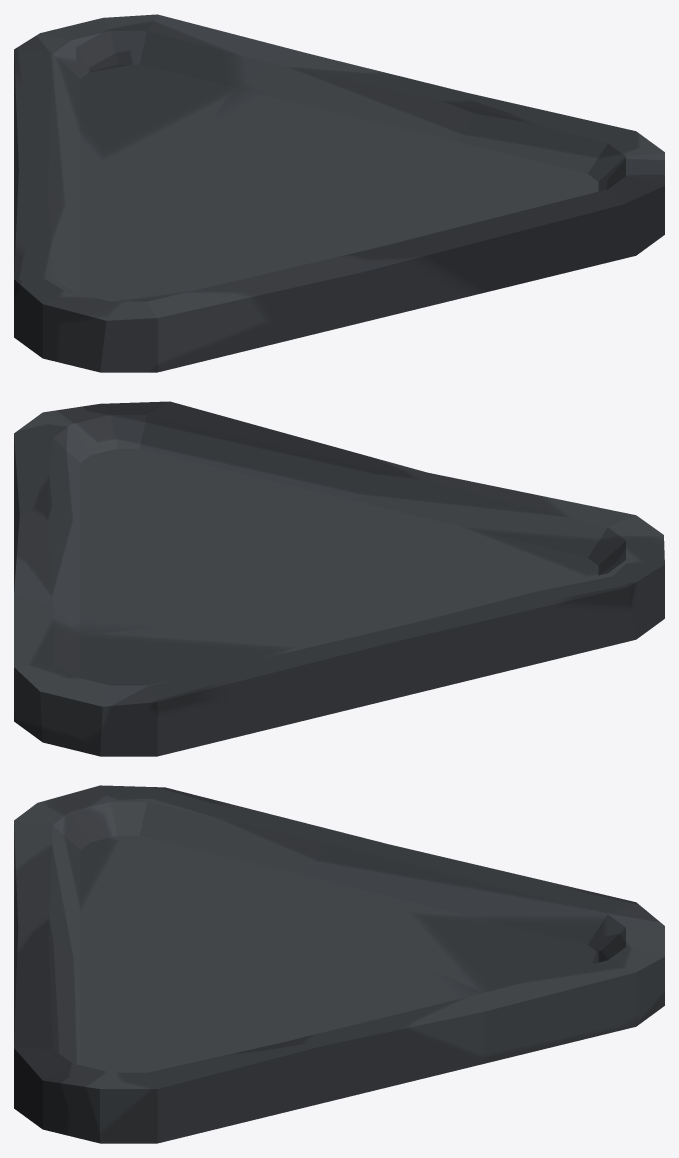
The model's file is SM_Prop_Cannonball_Holder_01.fbx.
The picture shows the model from 3 angles, top to bottom: view 1: azimuth 30°, elevation 25°; view 2: azimuth 150°, elevation 25°; view 3: azimuth 270°, elevation 25°; orthographic projection.
Parts seen in each view (by area): view 1: SM_Prop_Cannonball_Holder_01; view 2: SM_Prop_Cannonball_Holder_01; view 3: SM_Prop_Cannonball_Holder_01.
Boxes of the visible parts, x1,y1,x2,y2 form: SM_Prop_Cannonball_Holder_01: (14,14,664,372); SM_Prop_Cannonball_Holder_01: (14,401,664,756); SM_Prop_Cannonball_Holder_01: (14,785,664,1143).
Bounding box in the file's own units: 111 × 9.26 × 100.
